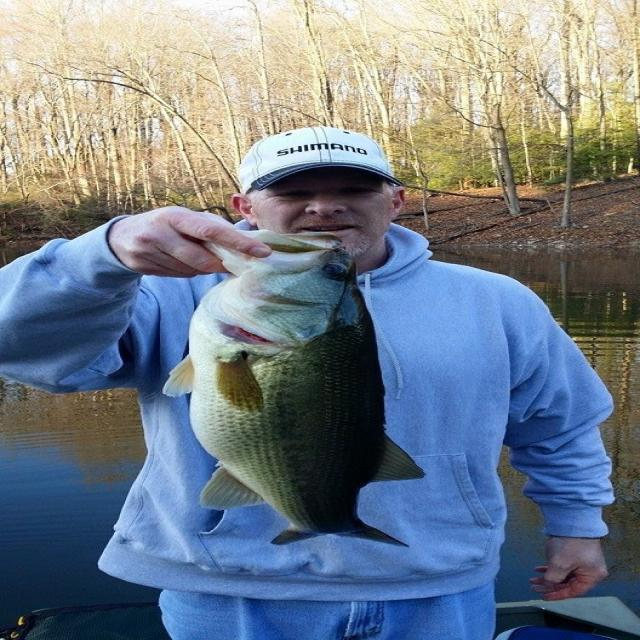Bass - Largemouth: (162, 230, 423, 545)
